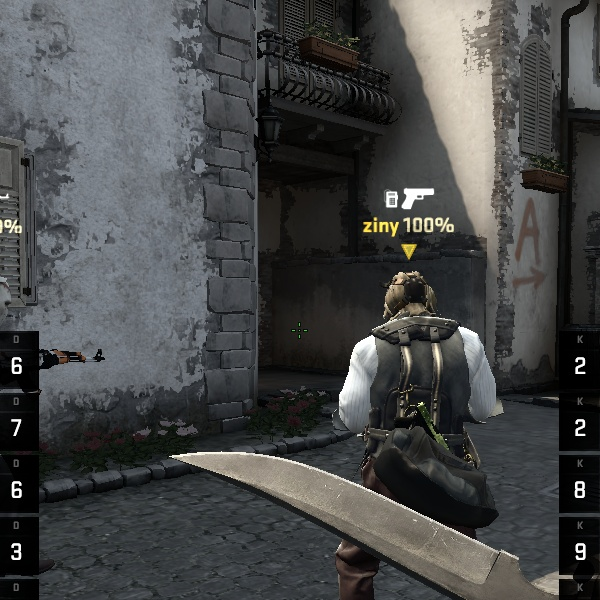ct_head: (368, 262, 448, 339)
t_body: (318, 264, 513, 578)
t_head: (367, 261, 447, 335)
